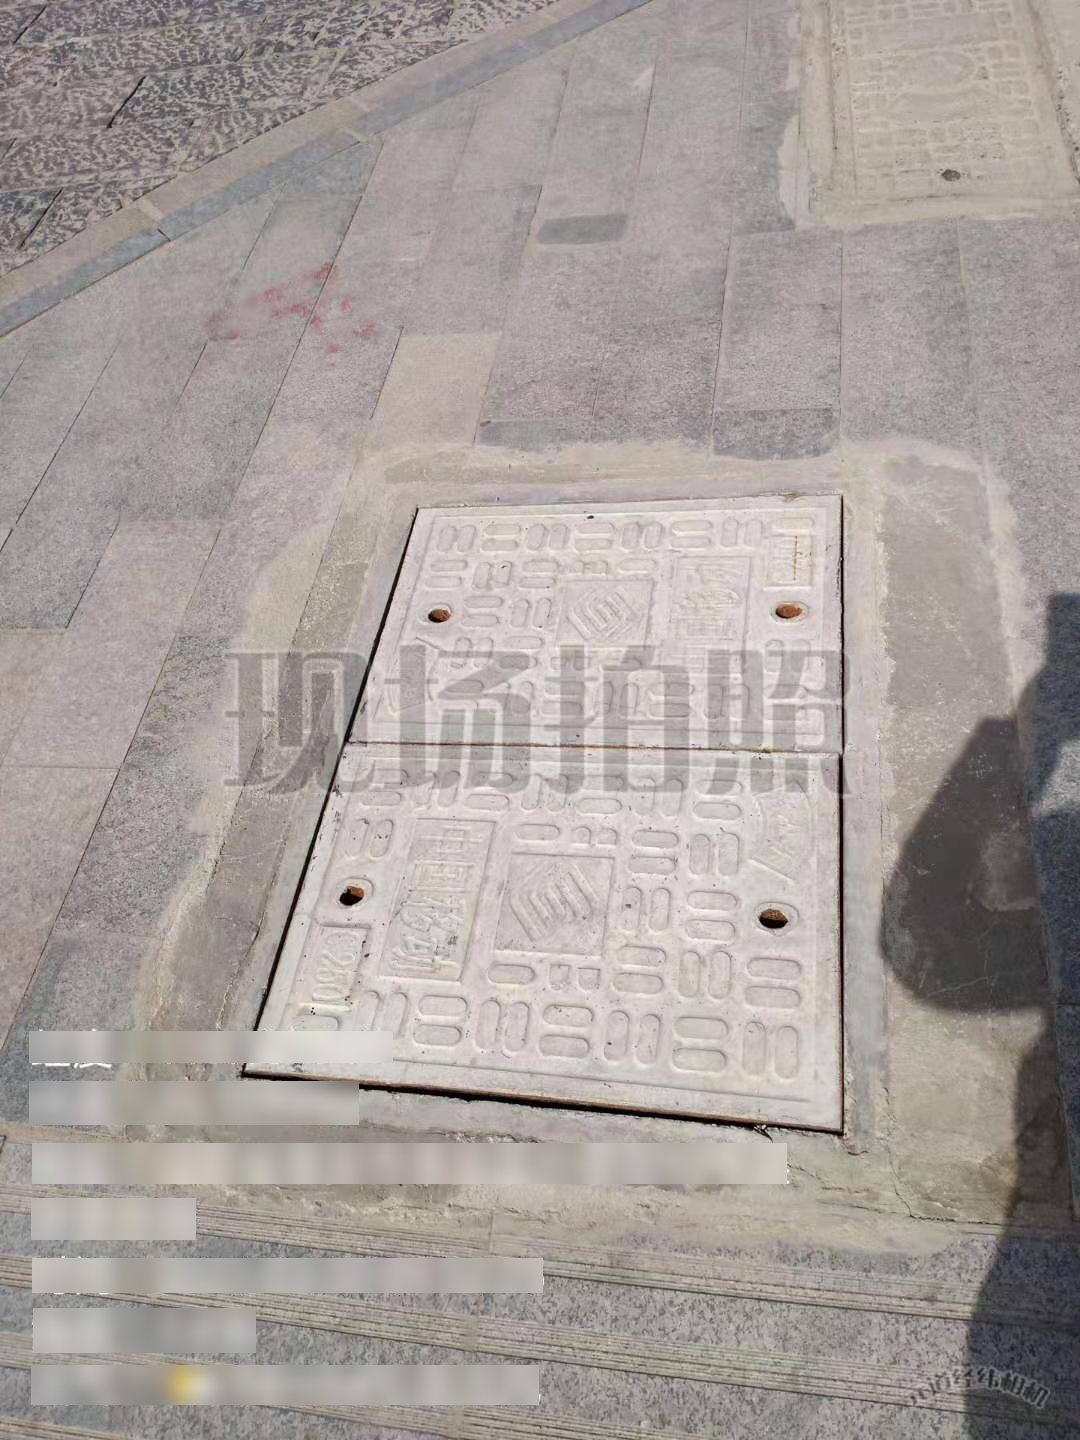well: (223, 472, 893, 1162)
